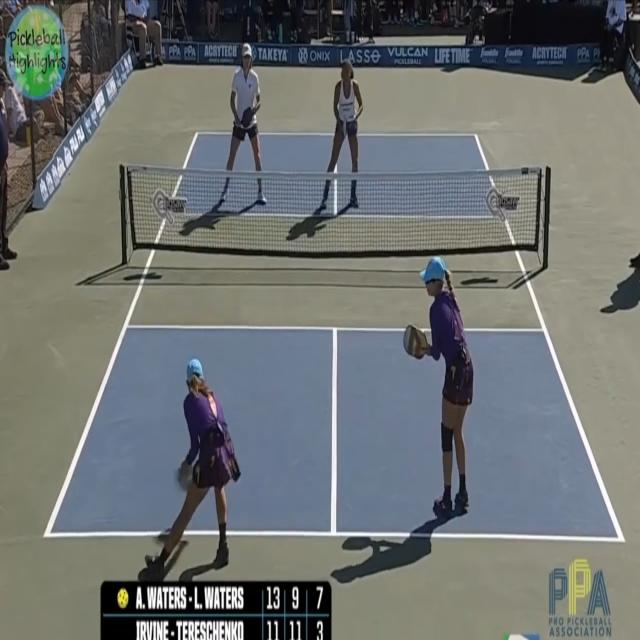Court: (47, 133, 620, 537)
